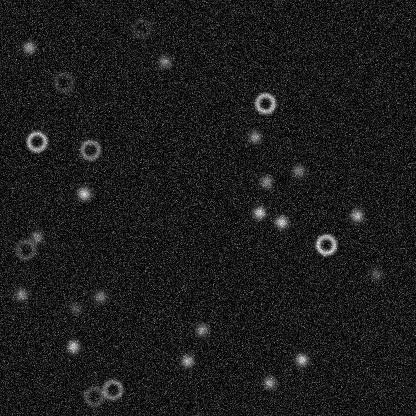Ring: (51, 70, 75, 94), (78, 137, 102, 161), (81, 384, 105, 408), (129, 16, 153, 40), (253, 91, 277, 115), (13, 237, 37, 261), (100, 377, 124, 401), (24, 129, 48, 153), (313, 232, 337, 256)
Spot: (193, 321, 209, 337), (258, 173, 274, 189), (92, 288, 108, 304), (273, 213, 289, 229), (261, 374, 277, 390), (348, 207, 364, 223), (67, 300, 83, 316), (156, 53, 172, 69), (65, 338, 81, 354), (290, 162, 306, 178), (28, 229, 44, 245), (367, 265, 383, 281), (293, 351, 309, 367), (20, 39, 36, 55), (75, 185, 91, 201), (246, 128, 262, 144), (179, 352, 195, 368), (251, 204, 267, 220), (13, 286, 29, 302)
